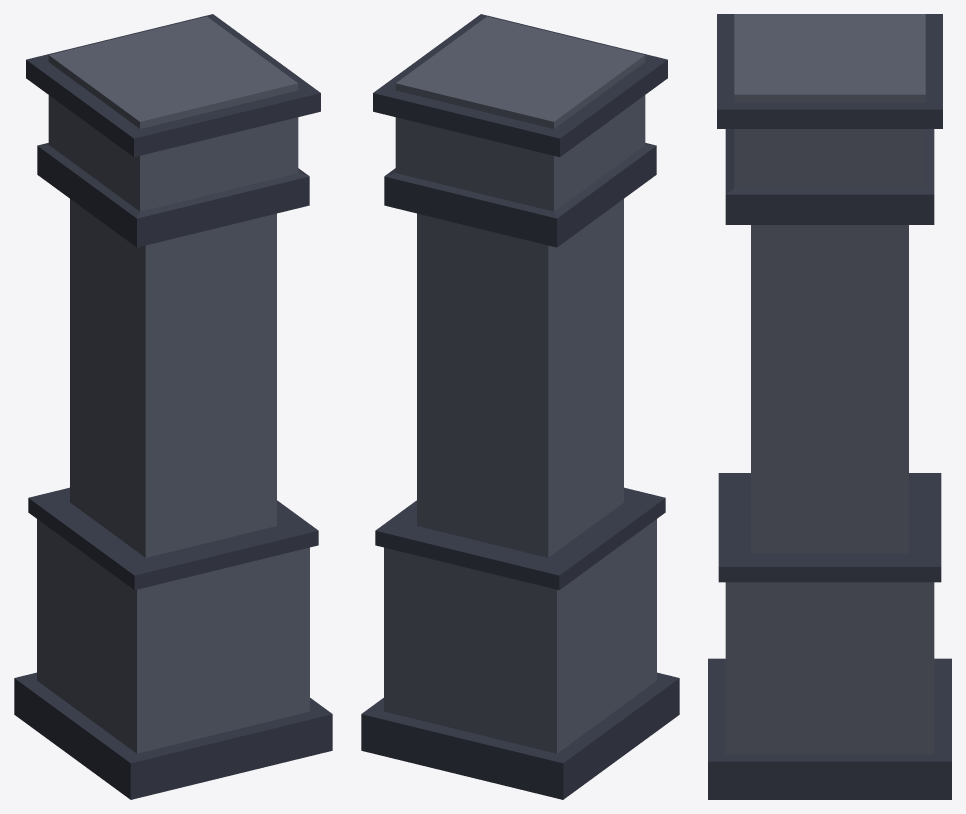
File: Mesh_graveyard_pillir.fbx
The picture shows the model from 3 angles, left to right: view 1: azimuth 30°, elevation 25°; view 2: azimuth 150°, elevation 25°; view 3: azimuth 270°, elevation 25°; orthographic projection. The views are drawn at different scales.
Parts seen in each view (by area): view 1: graveyard_pillir; view 2: graveyard_pillir; view 3: graveyard_pillir.
Boxes of the visible parts, bbox=[...] form: graveyard_pillir: bbox=[14, 14, 332, 799]; graveyard_pillir: bbox=[361, 14, 679, 799]; graveyard_pillir: bbox=[708, 14, 951, 799].
Bounding box in the file's own units: 109 × 342 × 109.
Materials: 1 (1 with a texture image).
